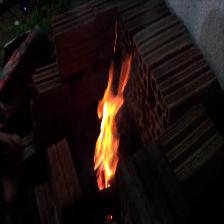fire: (90, 61, 128, 188)
